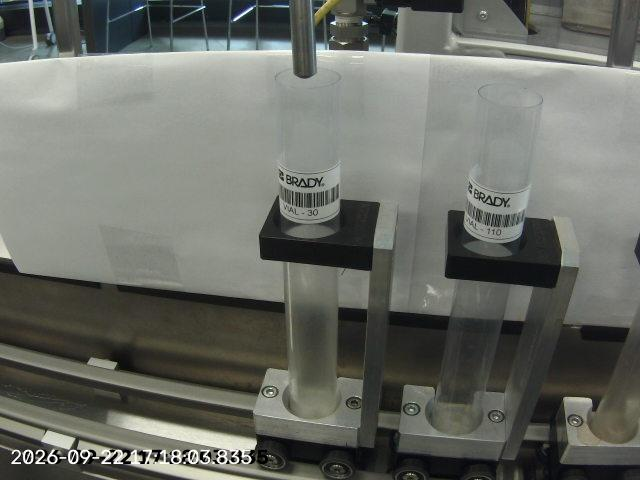vial: (427, 80, 545, 432), (272, 64, 344, 415)
